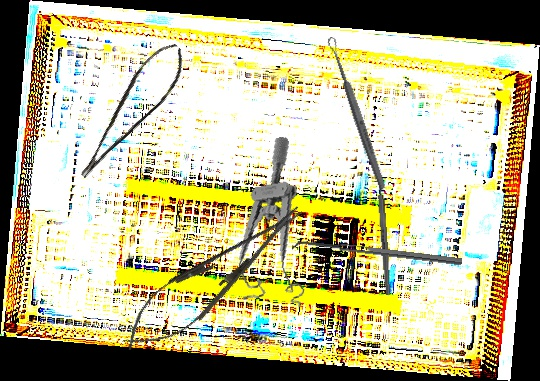Micro Scissor: (57, 35, 199, 183)
Needle Holder: (109, 187, 319, 368)
Scalpel Handle: (375, 173, 392, 296)
Spatula Surgical: (291, 237, 463, 273)
Speculum: (216, 136, 318, 316)
Surgical Spoon: (326, 35, 388, 192)
